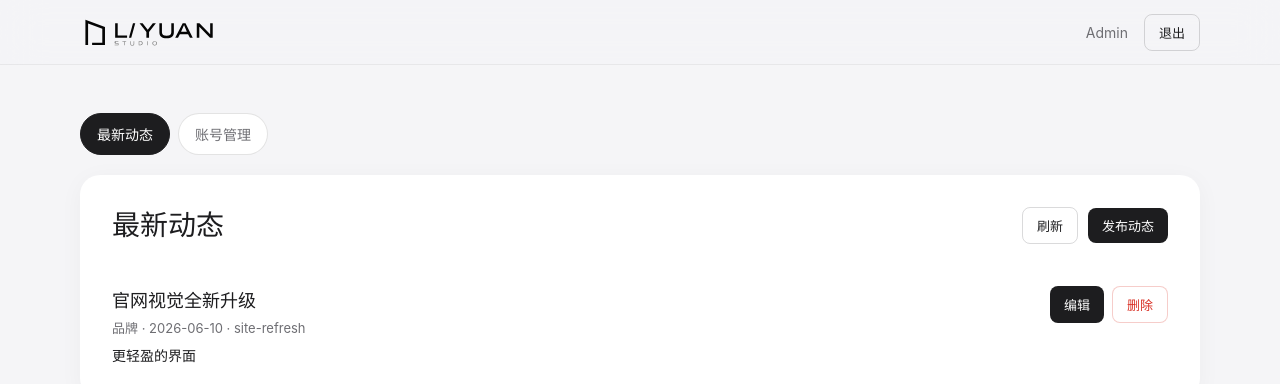
Scenario: AdminPage › deletes news and reloads the list after confirmation
This screenshot has width=1280, height=384.
Expected: the heading "官网视觉全新升级" is shown, [112, 290, 256, 311]
Click the button "删除" at [1140, 304], box [1112, 286, 1168, 323]
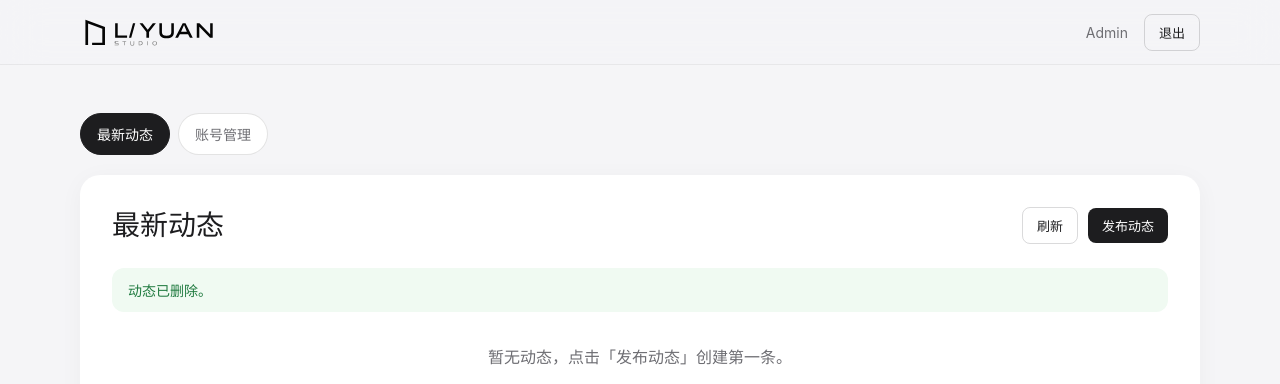
Result: the message reads "动态已删除。" at [128, 282, 212, 299]
Result: the text "暂无动态，点击「发布动态」创建第一条。" is shown at [488, 347, 792, 367]
